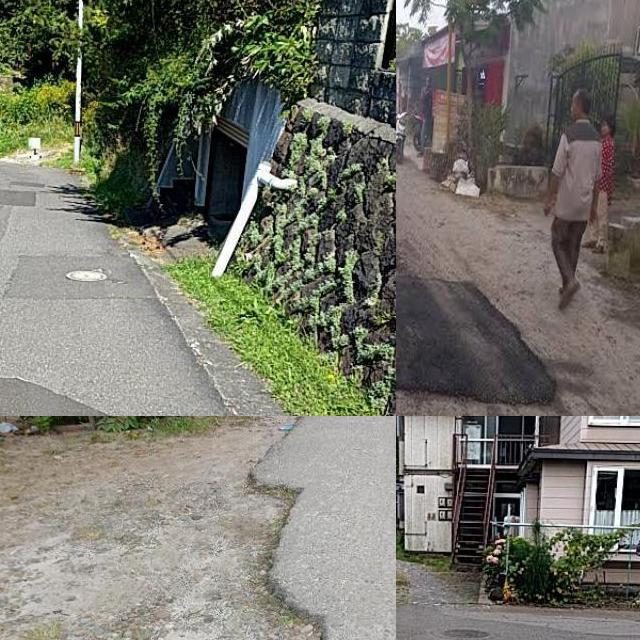Pinggir: (216, 455, 357, 640)
Sambungan: (396, 280, 556, 405), (0, 187, 34, 209)
